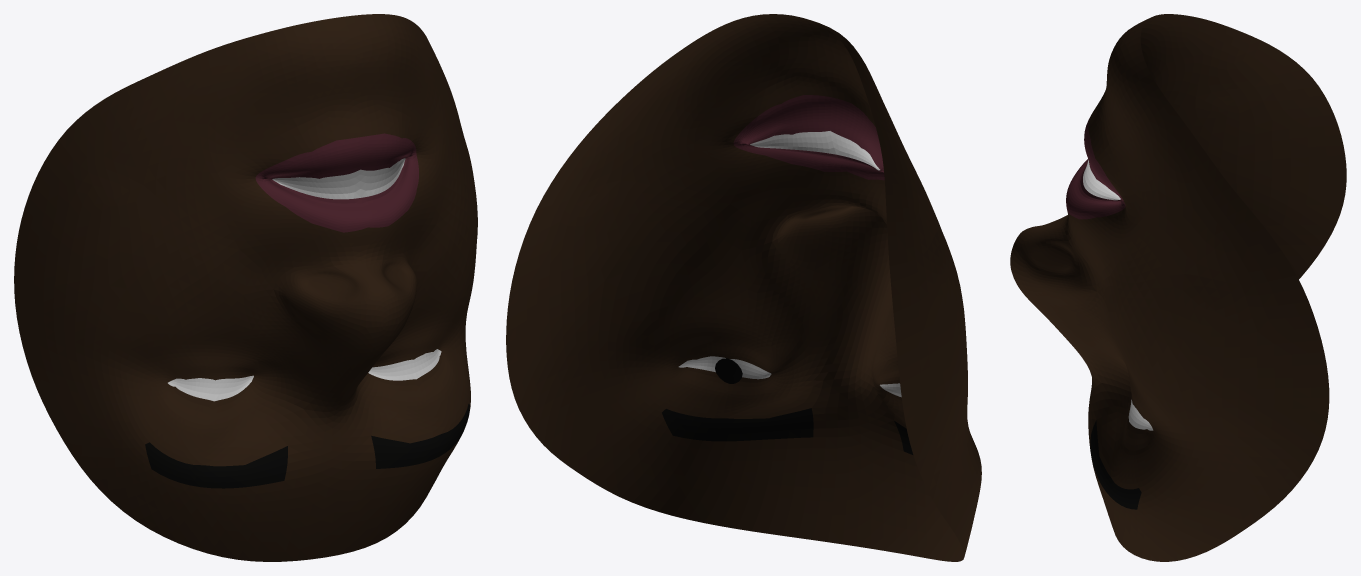
The model's file is VID-20250515-WA0003_f_01457.obj.
The picture shows the model from 3 angles, left to right: view 1: azimuth 30°, elevation 25°; view 2: azimuth 150°, elevation 25°; view 3: azimuth 270°, elevation 25°; orthographic projection. The views are drawn at different scales.
Parts seen in each view (by area): view 1: face_mesh_subdivided; view 2: face_mesh_subdivided; view 3: face_mesh_subdivided.
Boxes of the visible parts, x1,y1,x2,y2 form: face_mesh_subdivided: (14, 14, 477, 561); face_mesh_subdivided: (506, 14, 981, 561); face_mesh_subdivided: (1010, 14, 1346, 561).
Size of the model in its own units: 0.468 by 0.5748 by 0.3533.
